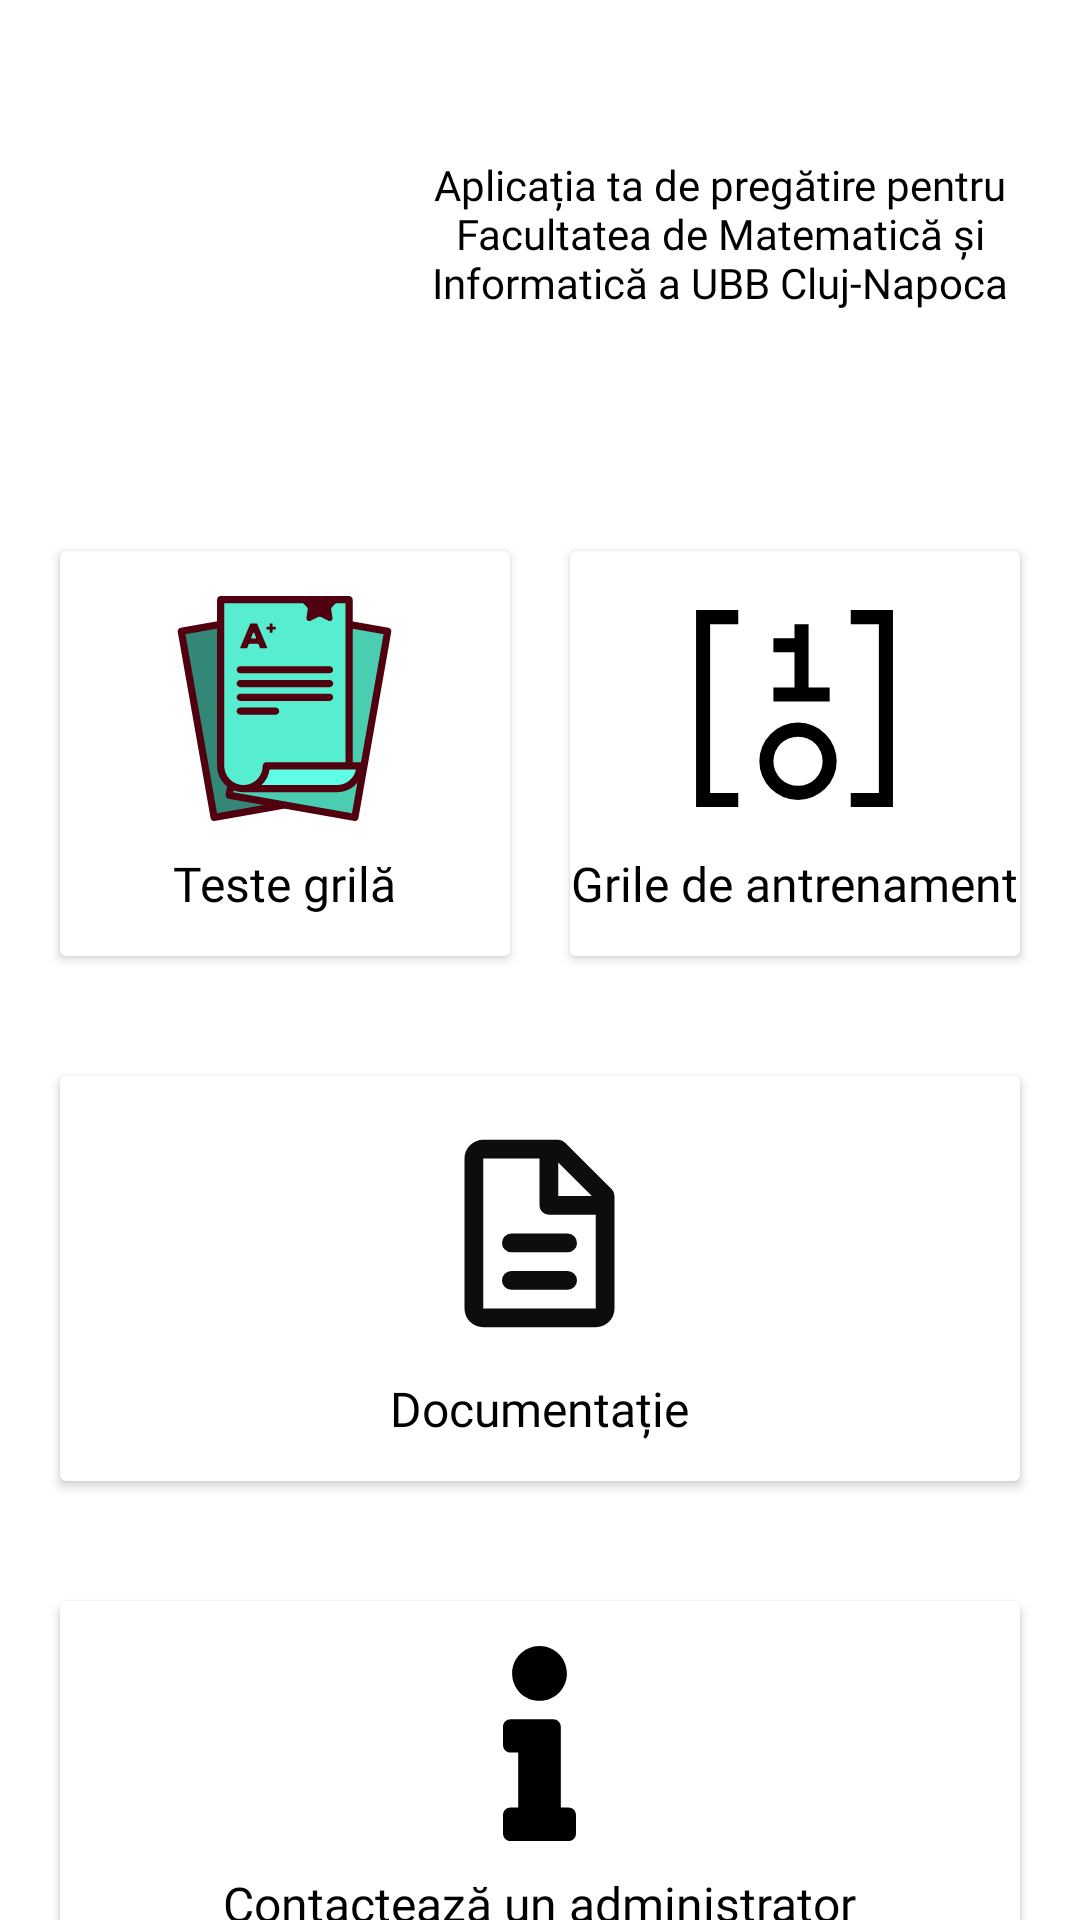

Where to tap for icons on this 1080*1920 app screen, as point (x, y):
info: point (539, 1743)
